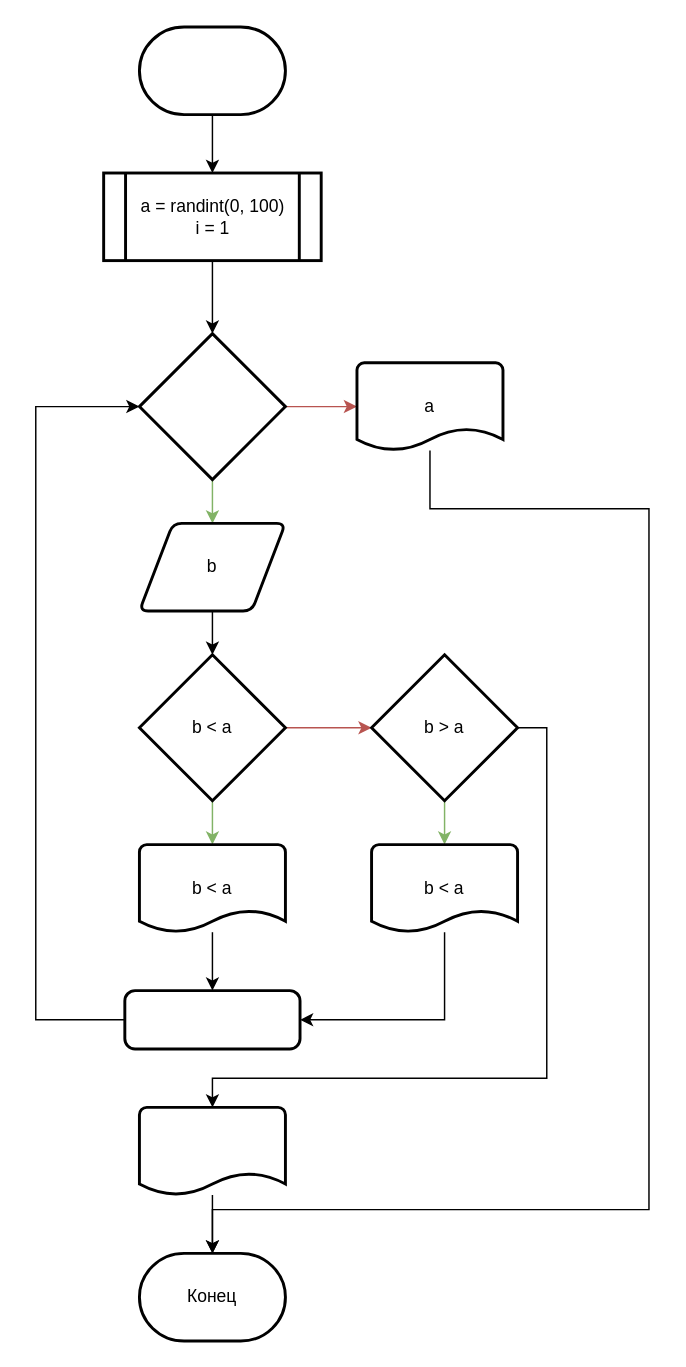
The diagram is 686 pixels wide and 1367 high, and some of its shapes have lost their labels. Each missing label, with the centre of its shape:
"b = a" belongs at (x=211, y=1150).
"i += 1" belongs at (x=212, y=1019).
"i <= 10" belongs at (x=211, y=405).
"Начало" belongs at (x=211, y=70).
